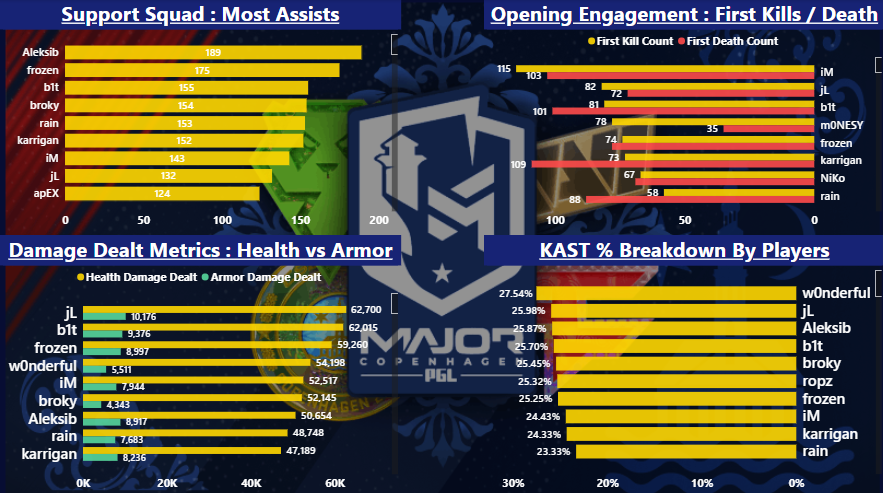

What the dashboard file says about the page in this screenshot:
{"tool":"powerbi","page":{"name":"Page 3","canvas":[1280,720],"ordinal":2},"visuals":[{"type":"image","box":[0,0,1280,720.6],"z":0},{"type":"clusteredBarChart","title":"Damage Dealt Metrics : Health vs Armor","fields":{"Category":["Player_Kills.name"],"Y":["Sum(Player_Kills.damage_health)","Sum(Player_Kills.damage_armor)"]},"box":[0,341,579.5,379.6],"z":1000},{"type":"barChart","title":"KAST % Breakdown By Players","fields":{"Category":["Player_Kills.name"],"Y":["Sum(Player_Kills.KAST Fixed)"]},"box":[700.5,341,579.5,379.6],"z":2000},{"type":"clusteredBarChart","title":"Support Squad :  Most Assists","fields":{"Category":["Player_Kills.name"],"Y":["Sum(Player_Kills.assist_count)"]},"box":[0,0,579.8,341.2],"z":3000},{"type":"clusteredBarChart","title":"Opening Engagement : First Kills / Death","fields":{"Y":["Sum(Player_Kills.first_kill_count)","Sum(Player_Kills.first_death_count)"],"Category":["Player_Kills.name"]},"box":[700.5,0,579.5,341],"z":4000},{"type":"slicer","fields":{"Values":["Player_Kills.name"]},"box":[1266.5,707,13,13],"z":4001}]}

Visuals, with their boxes in screenshot pixels (x1, y1, x2, y2), scaled from the page's 1280x720 canvas onto the 883x493 screenshot:
image: (0,0,882,492)
"Damage Dealt Metrics : Health vs Armor" clusteredBarChart: (0,233,400,492)
"KAST % Breakdown By Players" barChart: (483,233,882,492)
"Support Squad :  Most Assists" clusteredBarChart: (0,0,400,234)
"Opening Engagement : First Kills / Death" clusteredBarChart: (483,0,882,233)
slicer - Player_Kills.name: (874,484,882,492)
